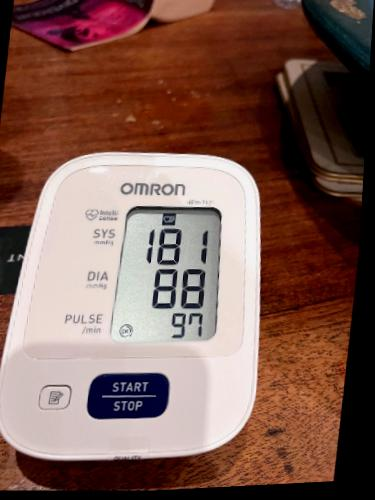bpm: (105, 206, 221, 343)
